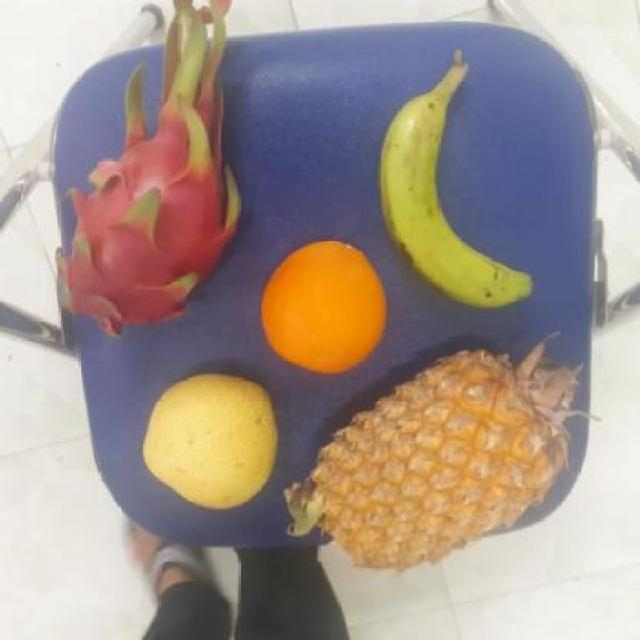banana: (378, 75, 520, 300)
dragon fruit: (58, 64, 249, 344)
oren: (260, 238, 389, 372)
pear: (141, 371, 284, 511)
pineapple: (305, 345, 583, 568)
